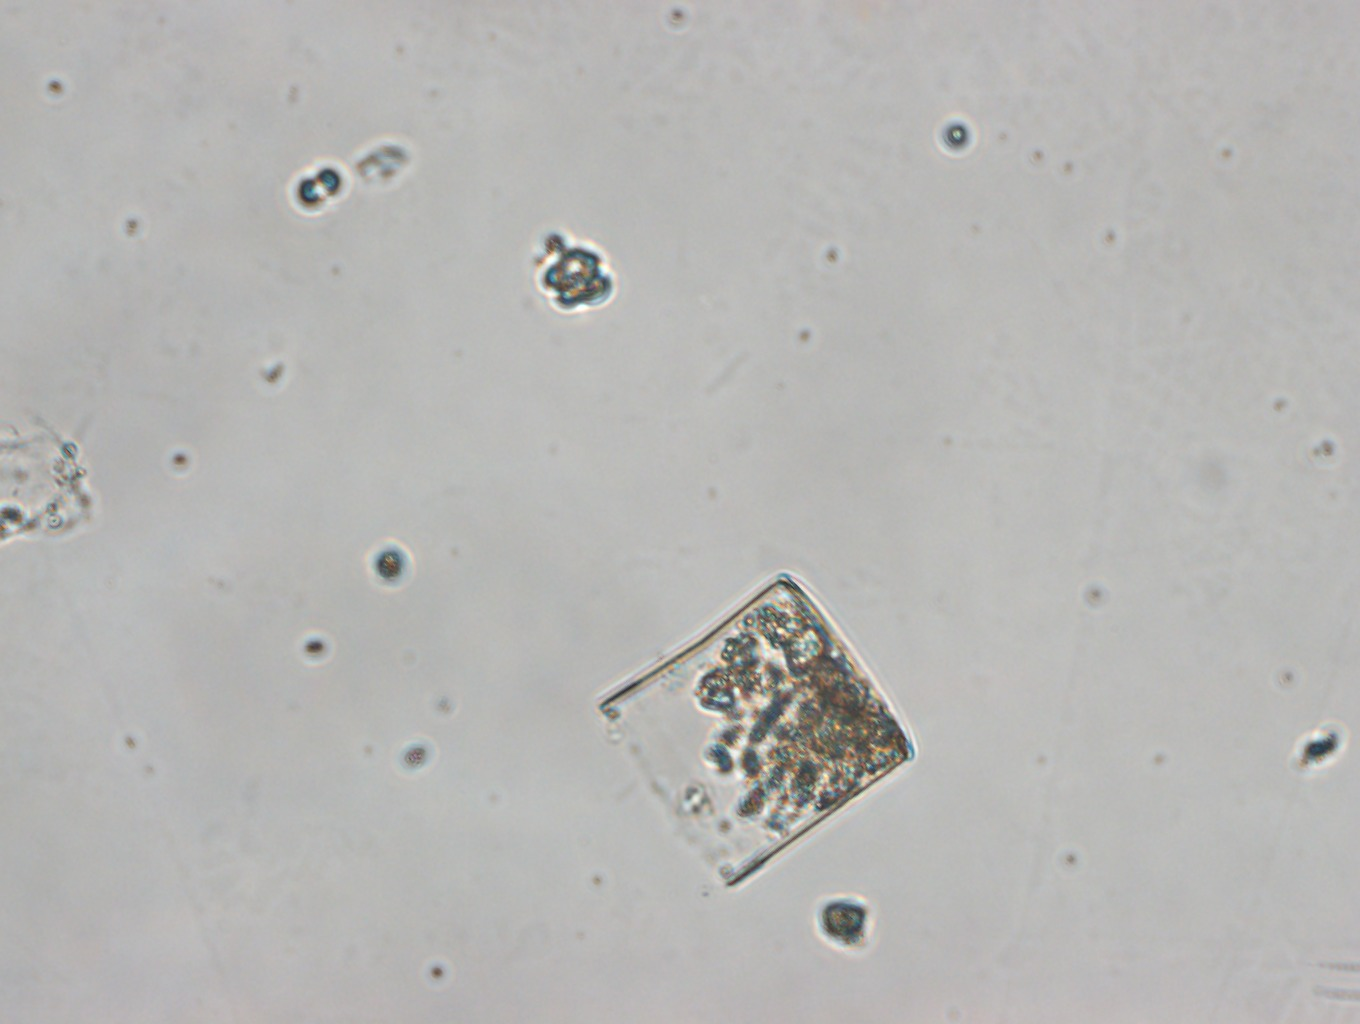guinardia flaccida: (597, 570, 914, 888)
